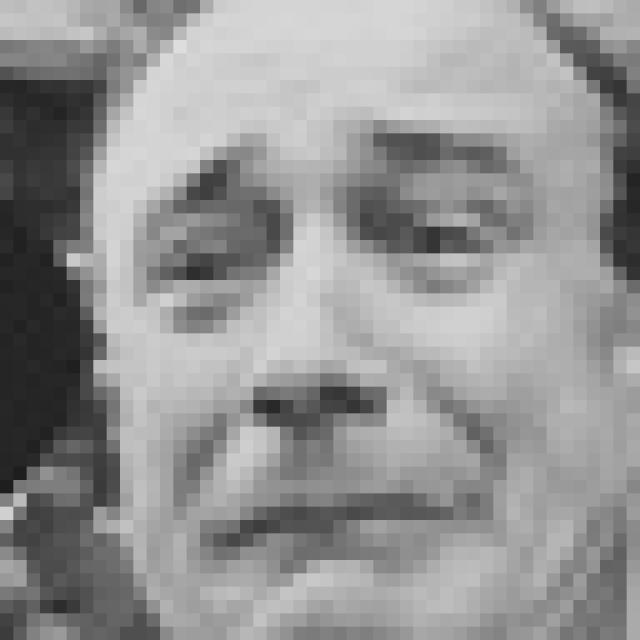sad: (124, 113, 561, 596)
